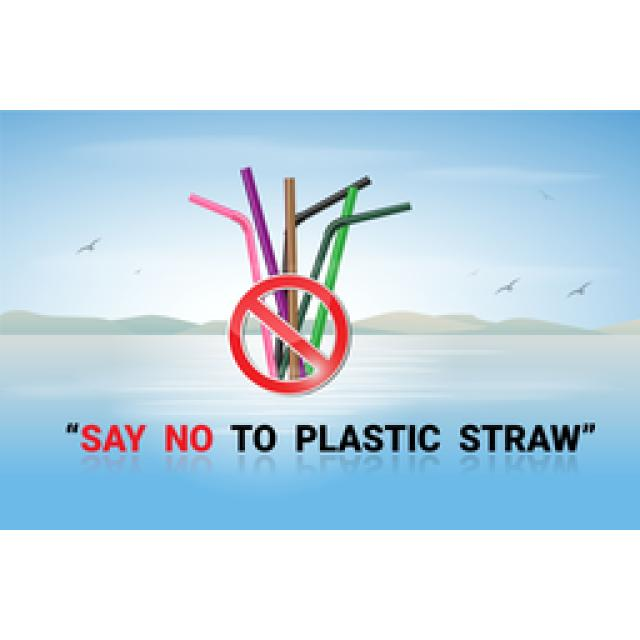plastic: (190, 168, 410, 288), (260, 325, 310, 378), (270, 290, 308, 328), (310, 305, 328, 348)
